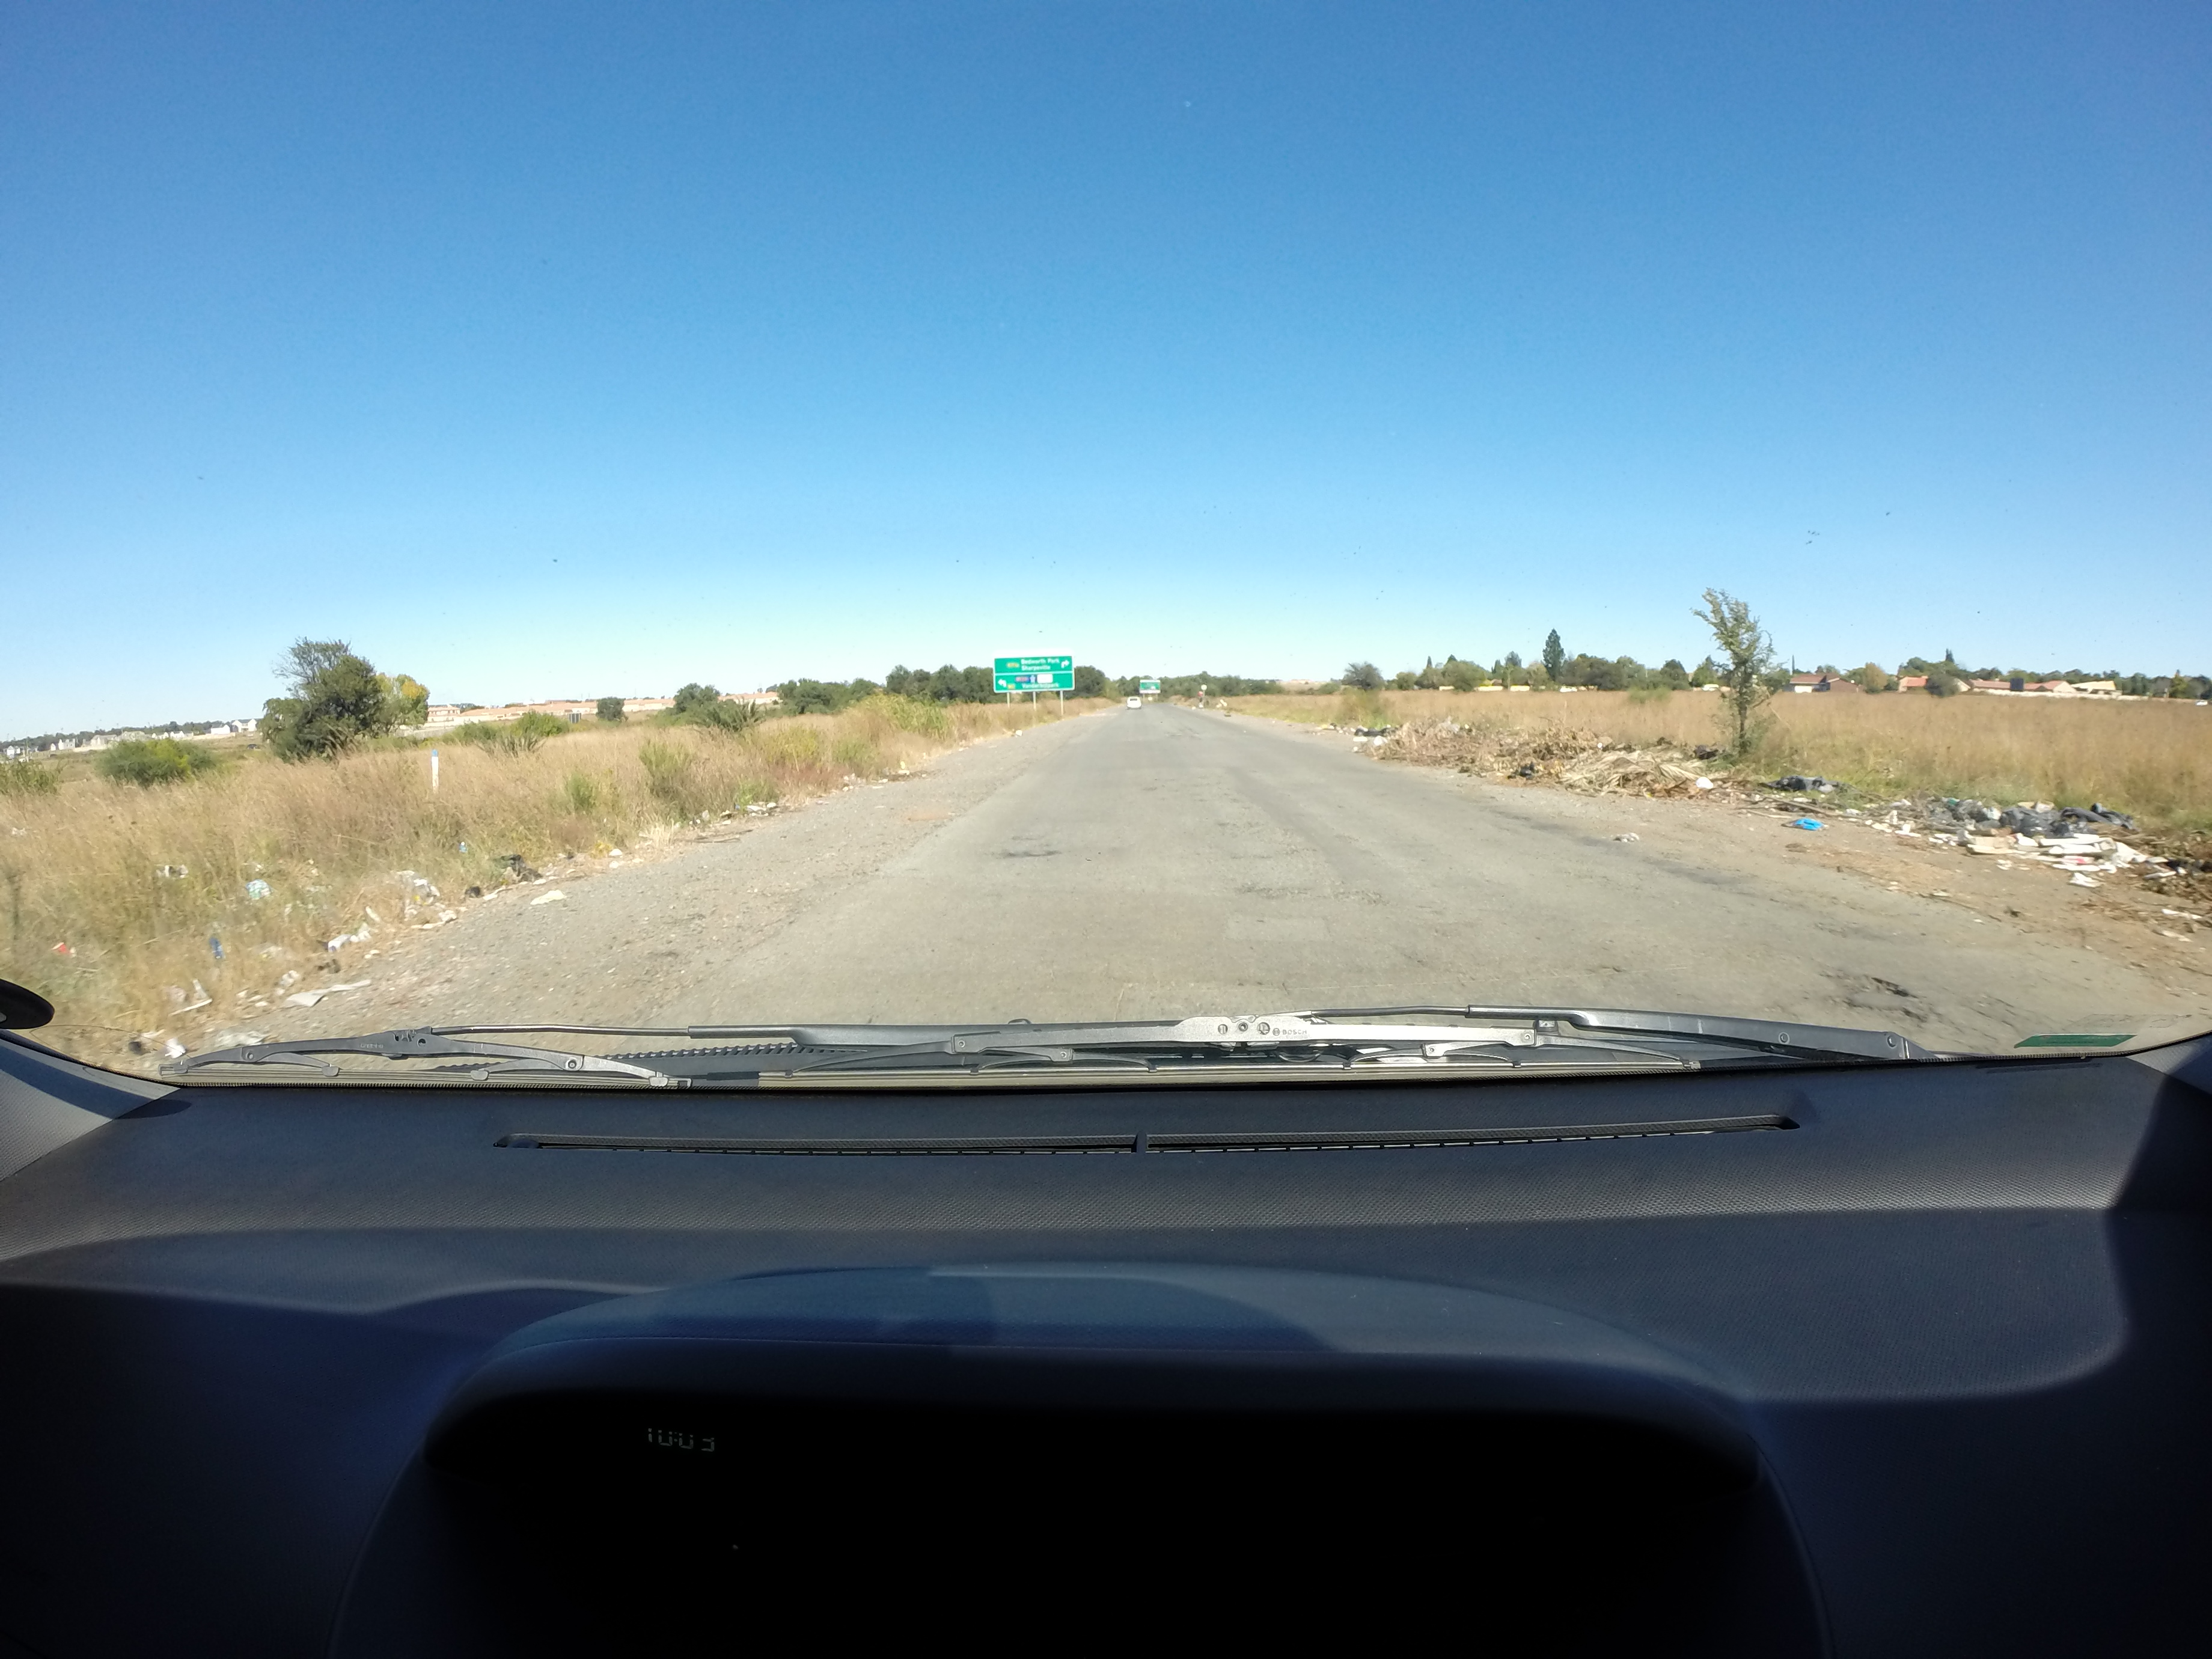pothole: (1808, 932, 1966, 1047)
